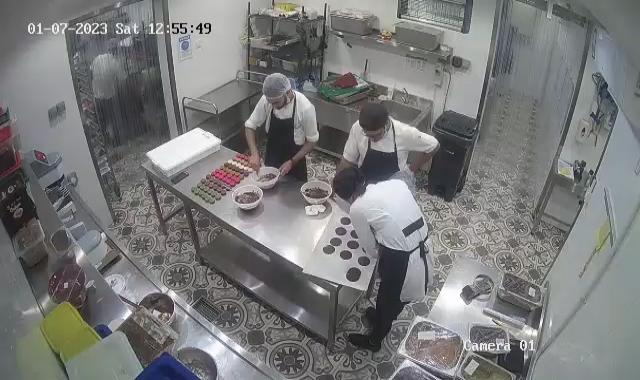hairnet: (262, 71, 292, 105)
no_hairnet: (332, 166, 368, 200), (358, 104, 390, 138)
